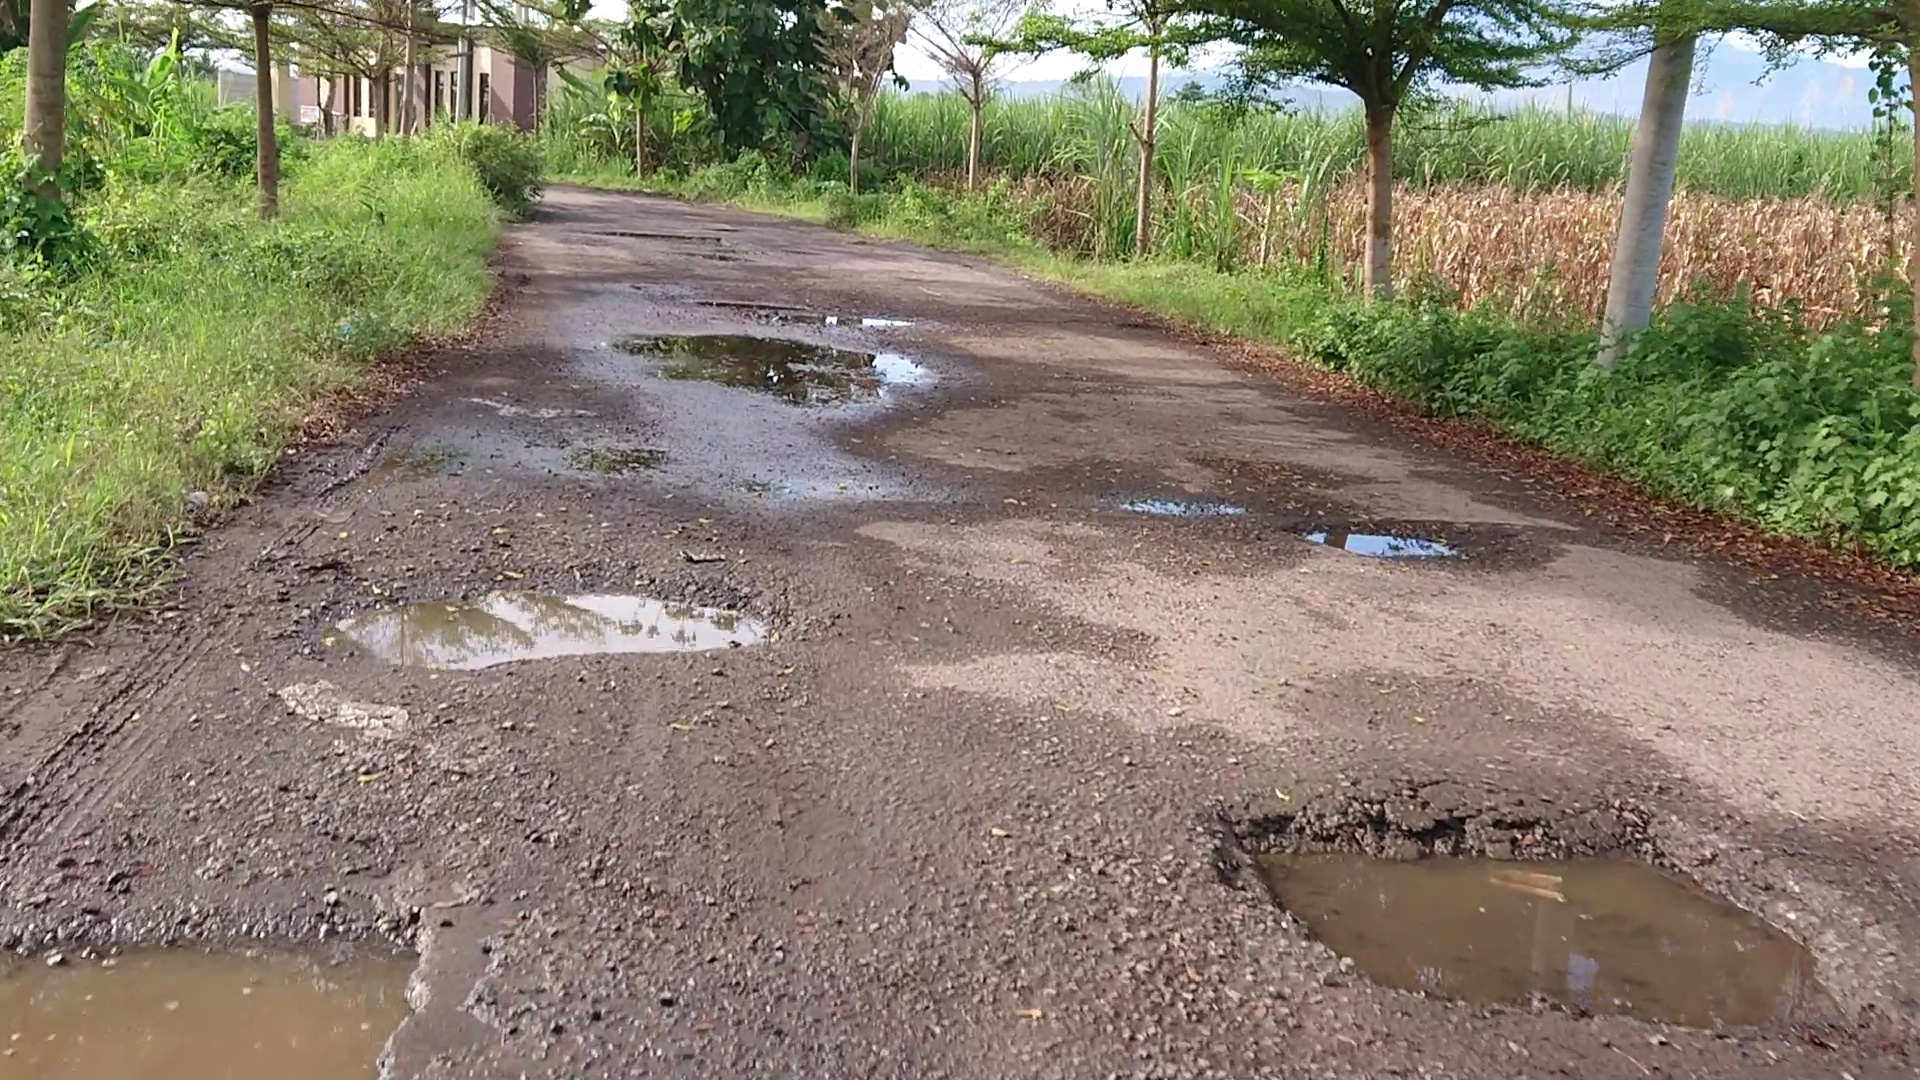Berlubang: (1284, 829, 1774, 1023), (1, 914, 431, 1080), (343, 607, 760, 650), (645, 338, 895, 409), (1299, 526, 1464, 562)
